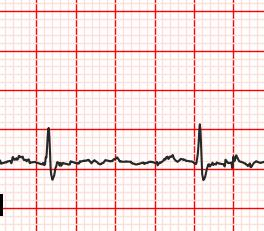ST Depression: (191, 157, 213, 184), (40, 160, 62, 182)
